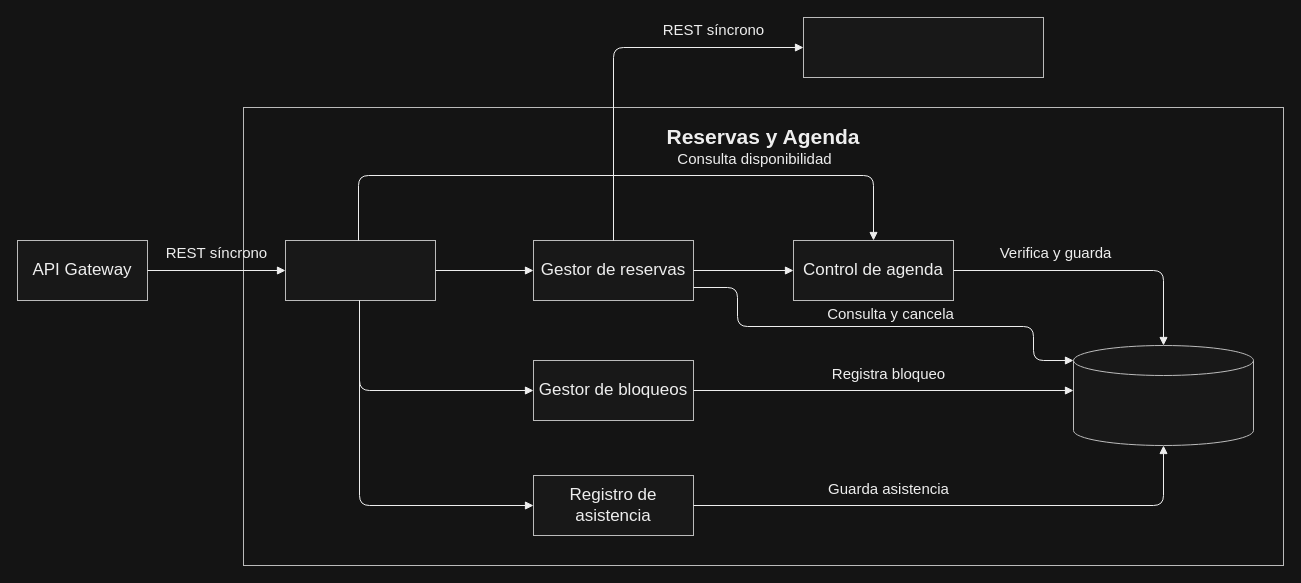
Some shapes in this 1301 by 583 pixel diagram are drawn without their labels. Each missing label, with the centre of its shape:
API de reservas: (x=360, y=270)
BD propia de Agenda: (x=1163, y=395)
Laboratorios y Recursos: (x=923, y=47)
